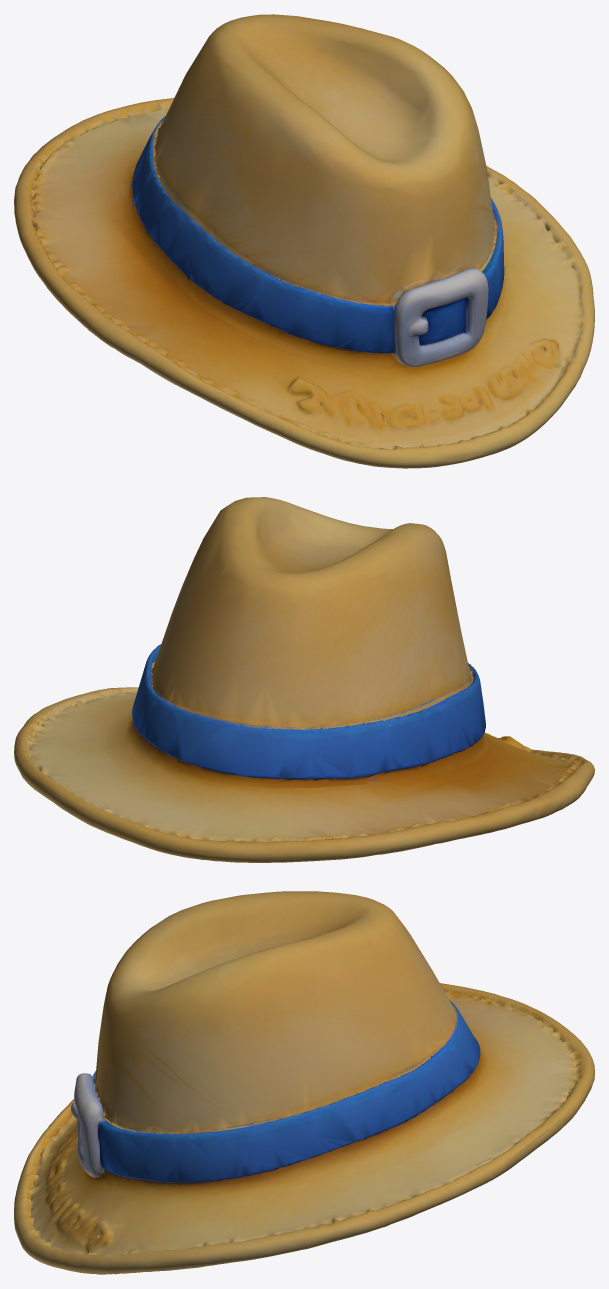
File: avatar_acc_hat.glb
3 renders of one model, top to bottom at view 1: azimuth 30°, elevation 25°; view 2: azimuth 150°, elevation 25°; view 3: azimuth 270°, elevation 25°, orthographic. The views are drawn at different scales.
Parts seen in each view (by area): view 1: world; view 2: world; view 3: world.
Part boxes in pixels (box(x1,y1,x2,y2)): world: box(14, 14, 594, 468); world: box(14, 497, 594, 862); world: box(14, 891, 594, 1274).
Size of the model in its own units: 1.82 by 1.15 by 1.99.
Materials: 1 (1 with a texture image).
